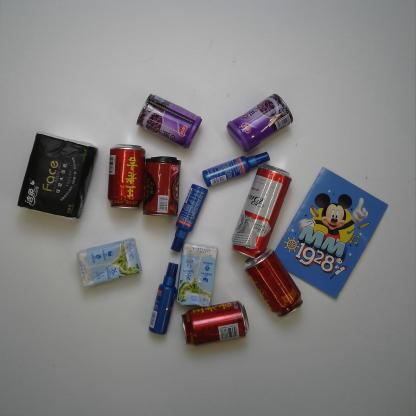Alcohol: (230, 163, 292, 258)
Canned Food: (223, 92, 296, 154), (135, 92, 204, 151), (141, 154, 183, 219)
Drink: (242, 247, 305, 318), (180, 300, 250, 346), (105, 140, 147, 210)
Milk: (75, 237, 144, 289), (175, 240, 219, 308)
Personal Hygiene: (200, 150, 272, 190), (170, 182, 208, 254), (148, 260, 180, 336)
Stationery: (275, 163, 390, 300)
Tissue: (14, 128, 101, 222)
